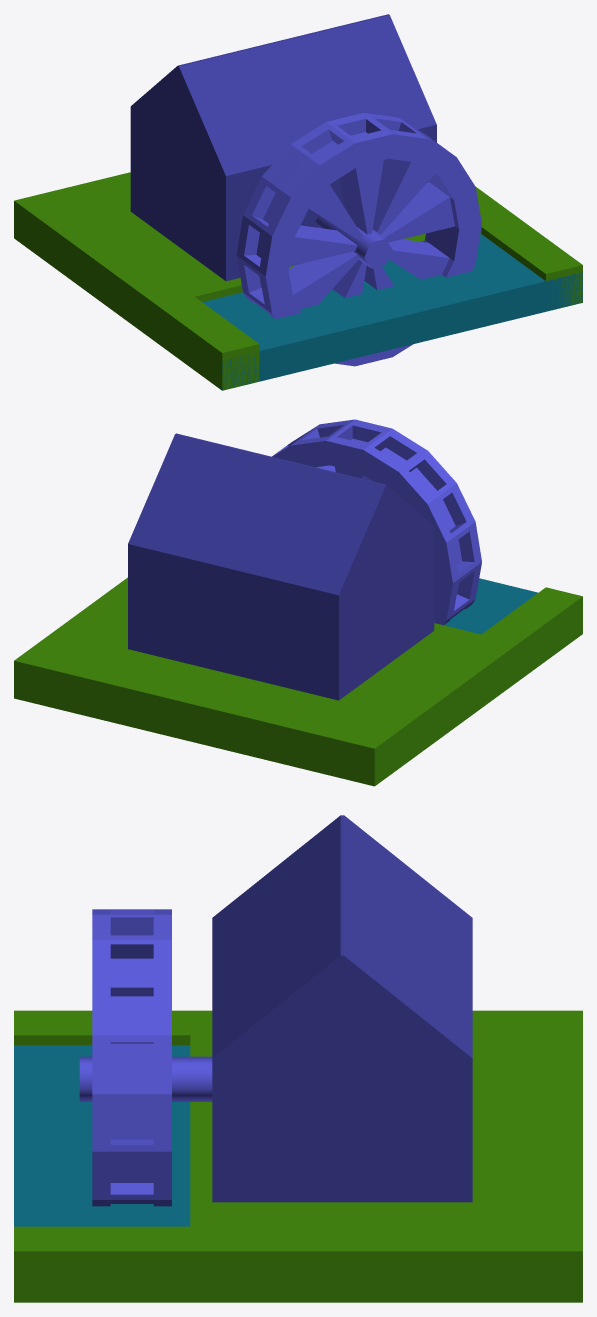
The model's file is Grinder0.obj.
The picture shows the model from 3 angles, top to bottom: view 1: azimuth 30°, elevation 25°; view 2: azimuth 150°, elevation 25°; view 3: azimuth 270°, elevation 25°; orthographic projection. The views are drawn at different scales.
Visible parts, largest first — view 1: Box920, Mill, Tilebase127, Tilebase128, Cylinder137; view 2: Box920, Tilebase127, Mill, Tilebase128; view 3: Box920, Tilebase127, Mill, Tilebase128, Cylinder137.
Boxes of the visible parts, x1,y1,x2,y2 form: Box920: [130, 14, 436, 281]; Mill: [236, 113, 481, 366]; Tilebase127: [14, 172, 582, 390]; Tilebase128: [202, 234, 582, 390]; Cylinder137: [315, 215, 392, 268]; Box920: [128, 433, 434, 700]; Tilebase127: [14, 577, 582, 786]; Mill: [272, 419, 481, 625]; Tilebase128: [444, 578, 537, 634]; Box920: [212, 815, 472, 1202]; Tilebase127: [14, 1010, 582, 1302]; Mill: [92, 909, 171, 1206]; Tilebase128: [14, 1045, 190, 1226]; Cylinder137: [79, 1056, 212, 1101].
Size of the model in its own units: 10 by 6.73 by 10.
